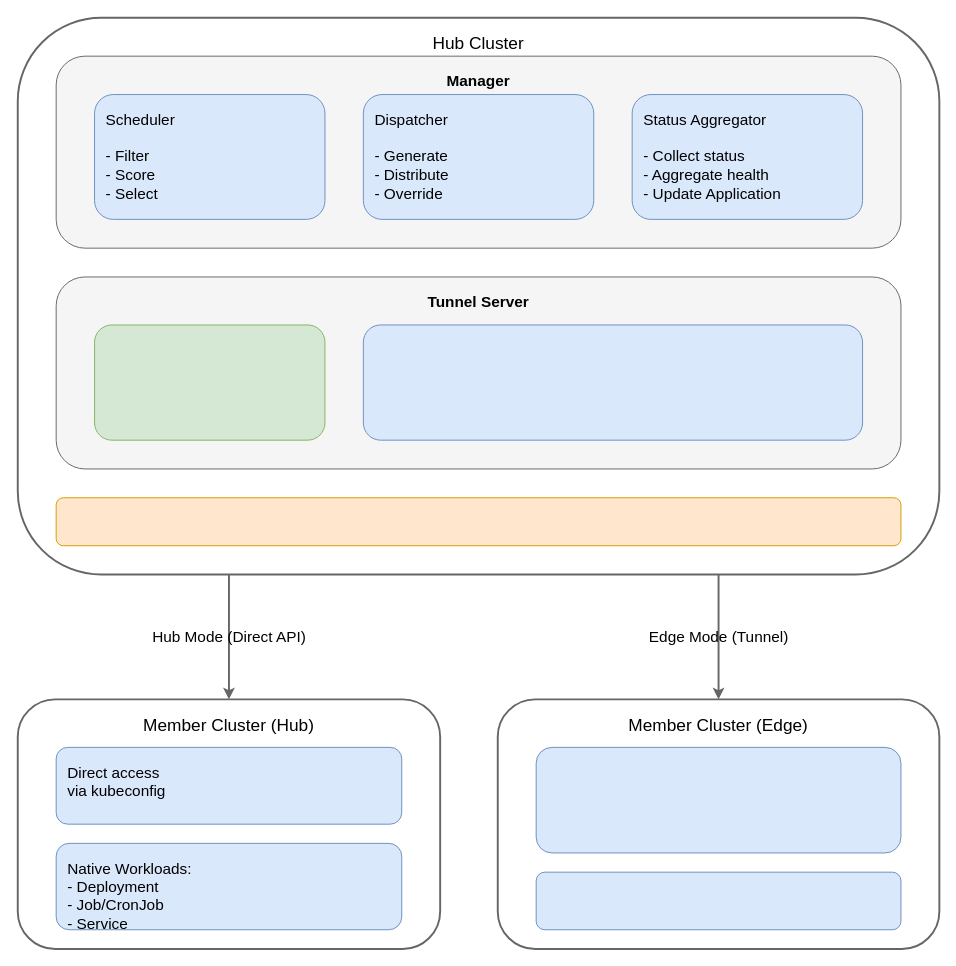
The diagram is 956 pixels wide and 966 high, and some of its shapes have lost their labels. Here are the shapes that lost their labels. From the top down, the centre of each, then its label:
At pixel 209 382: "WebSocket Listener".
At pixel 612 382: "Agent Sessions cluster-a: connected cluster-b: connected".
At pixel 478 521: "CRDs: Application | ManagedCluster | Workspace".
At pixel 718 799: "Rocket Agent - Tunnel Client - Heartbeat - Local Executor".
At pixel 718 900: "Native Workloads".
